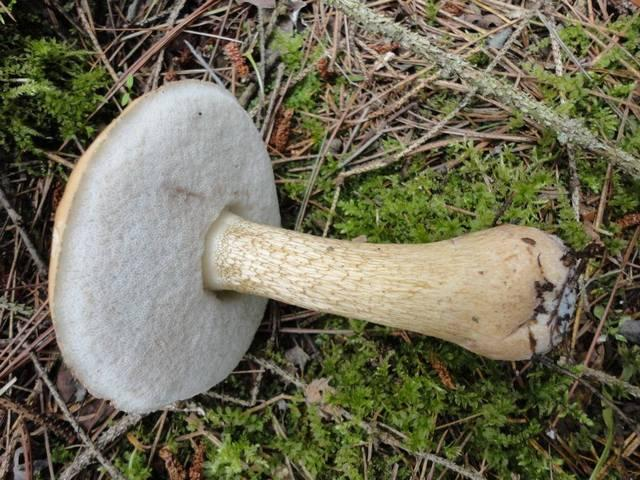poisonous_mushroom: (45, 77, 582, 416)
